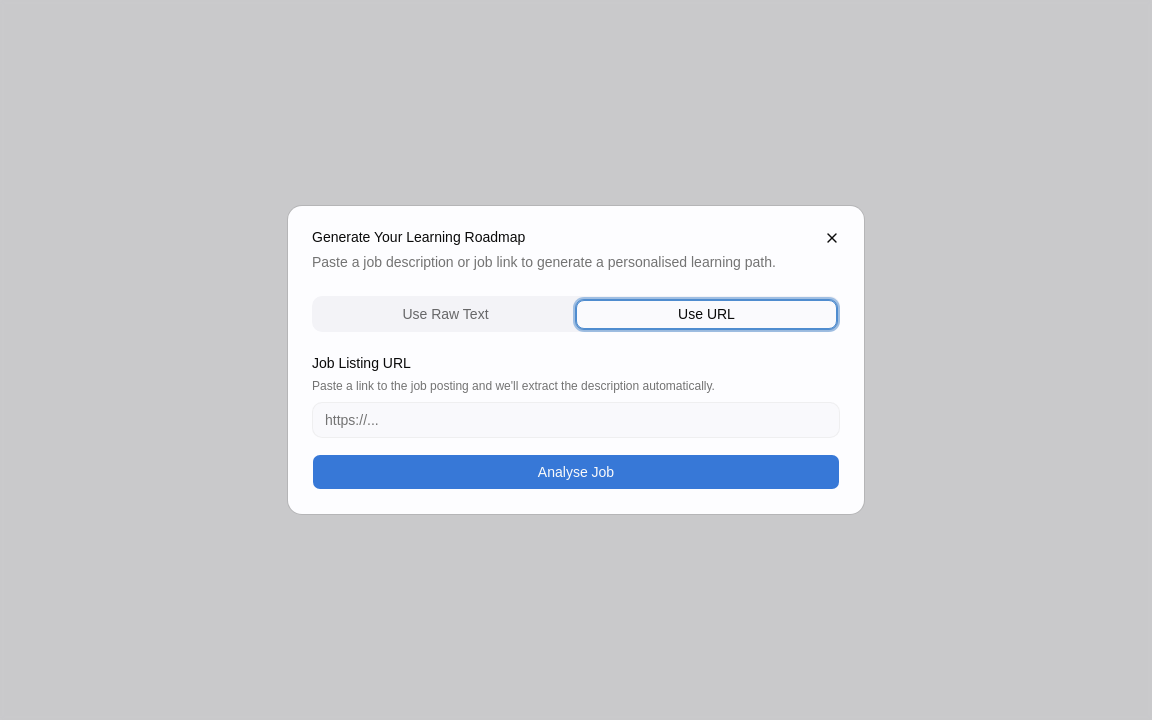
it: CreateRoadMapModal › shows a text validation error when submitting the text tab with empty text
This screenshot has width=1152, height=720.
Click the tab "Use Raw Text" at (446,314), box [315,300,576,328]
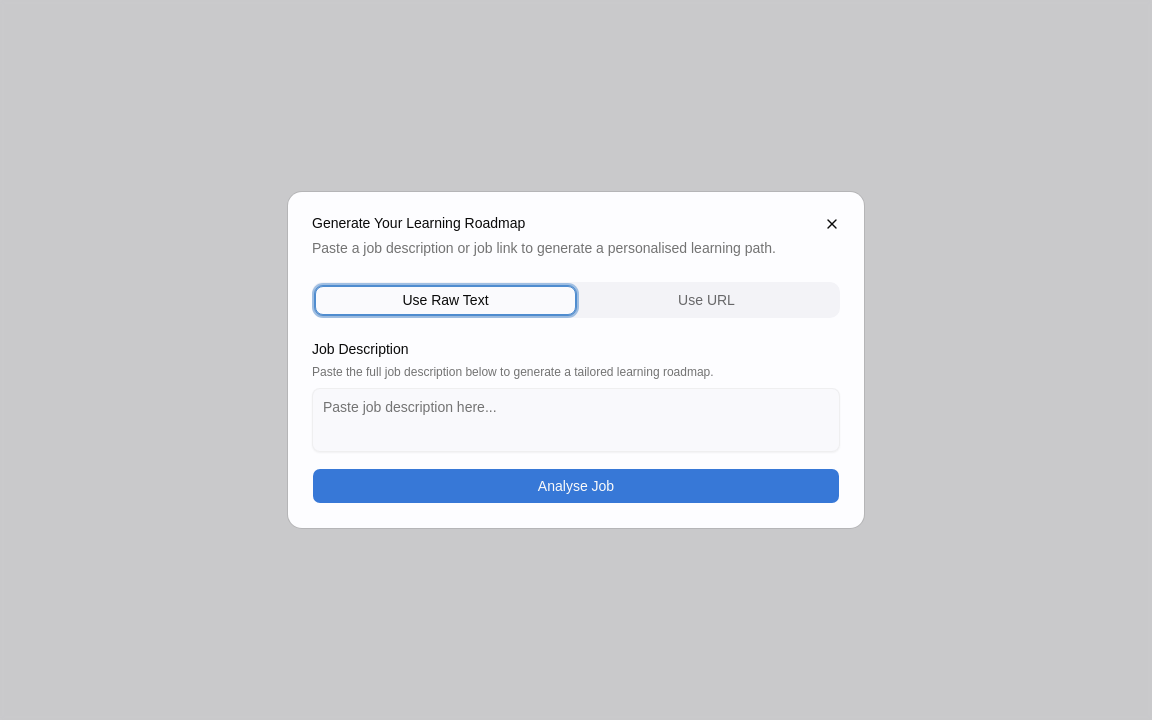
Submit without filling in the raw text field
Click the button "Analyse Job" at (576,486), box [312,468,840,504]
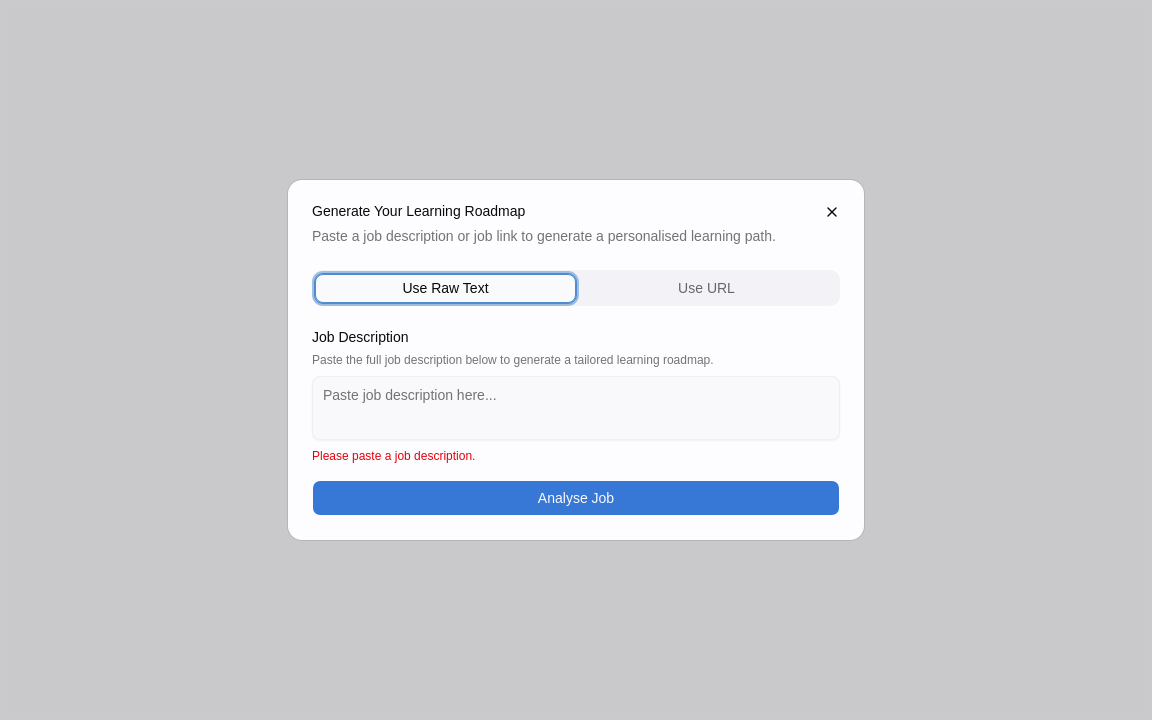
expect the text "Please paste a job description." is shown: met, box [312,449,475,463]
